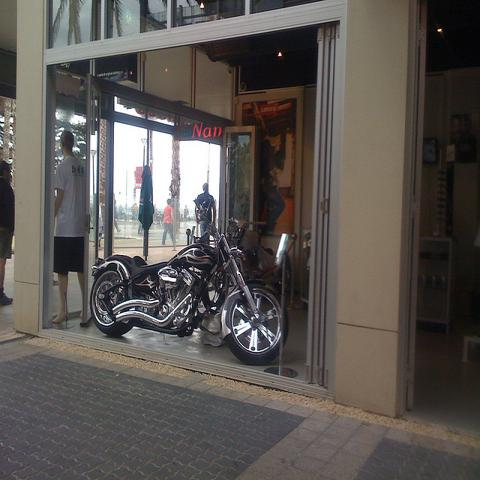motorcycle: (88, 233, 286, 365)
